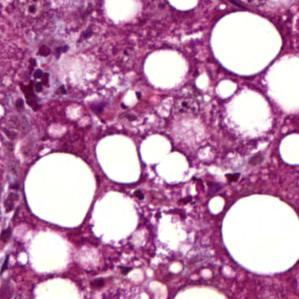steatosis: (20, 151, 97, 228), (206, 8, 280, 78), (94, 134, 147, 187), (138, 46, 191, 94)
